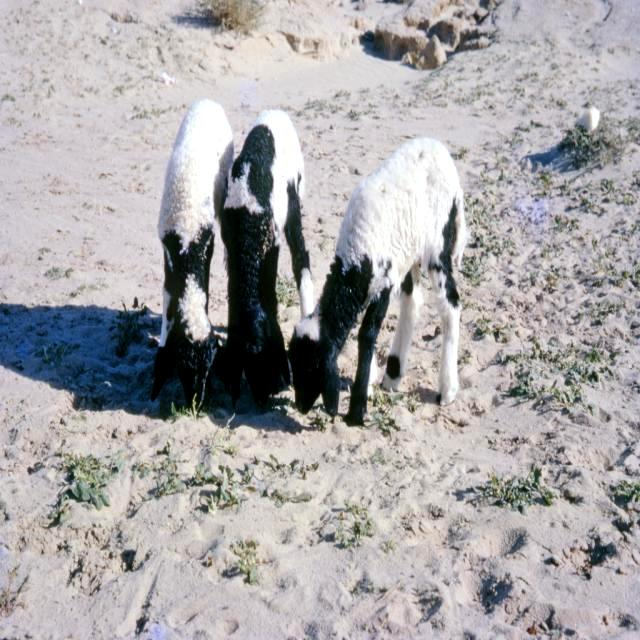sheep: (292, 137, 468, 423), (219, 109, 310, 404), (153, 99, 231, 402)
